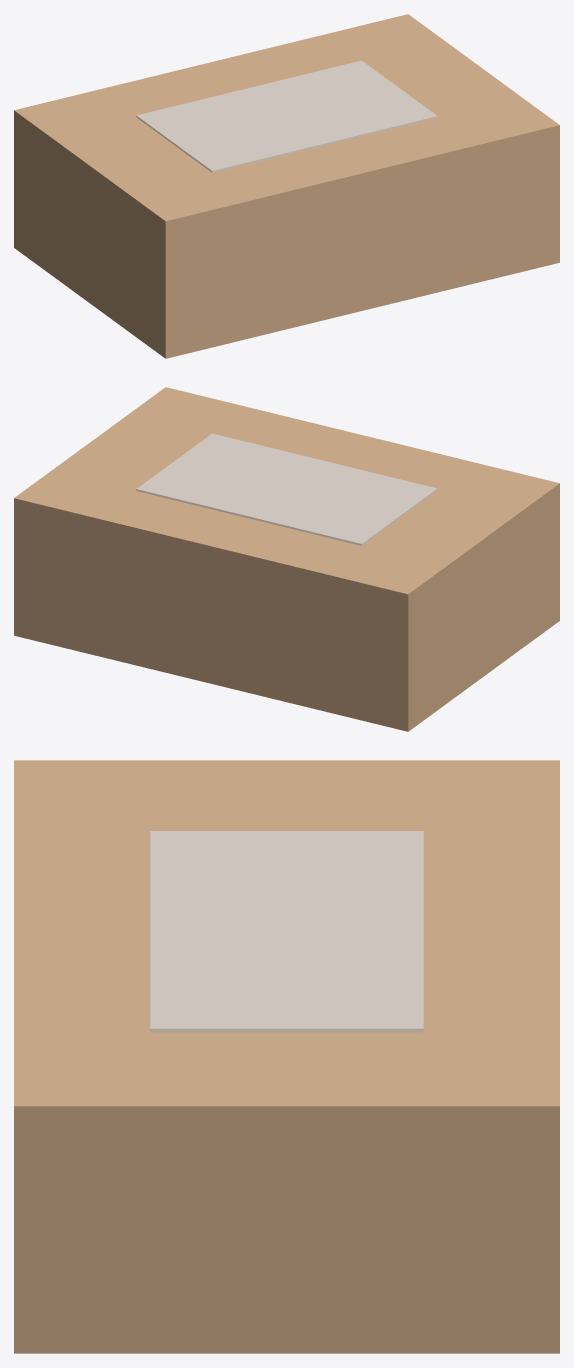
File: FoodPackagingBox.glb
3 renders of one model, top to bottom at view 1: azimuth 30°, elevation 25°; view 2: azimuth 150°, elevation 25°; view 3: azimuth 270°, elevation 25°, orthographic. The views are drawn at different scales.
Visible parts, largest first — view 1: PlatterTray, PlatterLid, ViewingWindow; view 2: PlatterTray, PlatterLid, ViewingWindow; view 3: PlatterLid, PlatterTray, ViewingWindow.
Part boxes in pixels (x1=…): PlatterTray: x1=14, y1=110, x2=559, y2=358; PlatterLid: x1=14, y1=14, x2=559, y2=264; ViewingWindow: x1=136, y1=60, x2=437, y2=172; PlatterTray: x1=14, y1=483, x2=559, y2=731; PlatterLid: x1=14, y1=387, x2=559, y2=594; ViewingWindow: x1=136, y1=433, x2=437, y2=545; PlatterLid: x1=14, y1=760, x2=559, y2=1106; PlatterTray: x1=14, y1=1106, x2=559, y2=1353; ViewingWindow: x1=150, y1=831, x2=423, y2=1032.
Size of the model in its own units: 4.2 by 1.42 by 2.8.
